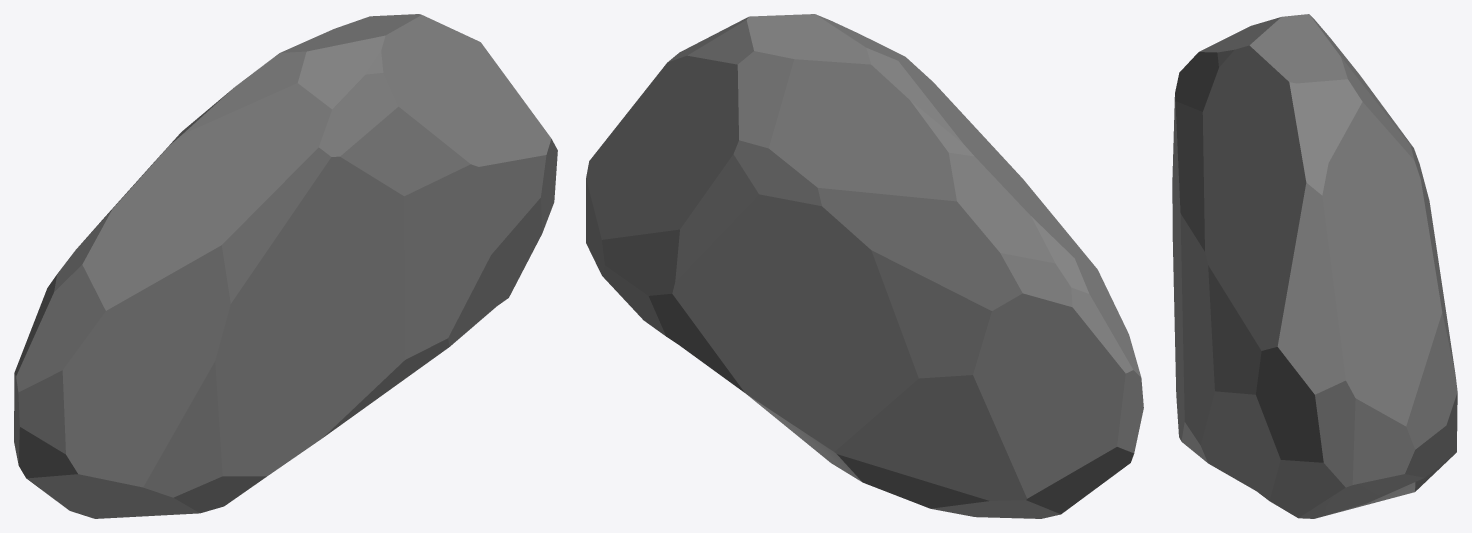
File: rock.obj
3 views of the same model, side by side, from view 1: azimuth 30°, elevation 25°; view 2: azimuth 150°, elevation 25°; view 3: azimuth 270°, elevation 25° (orthographic). The views are drawn at different scales.
Size of the model in its own units: 18.93 by 14.48 by 6.78.
